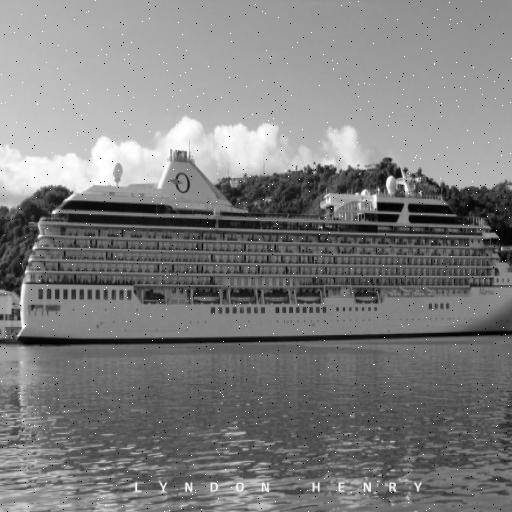cruises: (13, 147, 512, 352)
